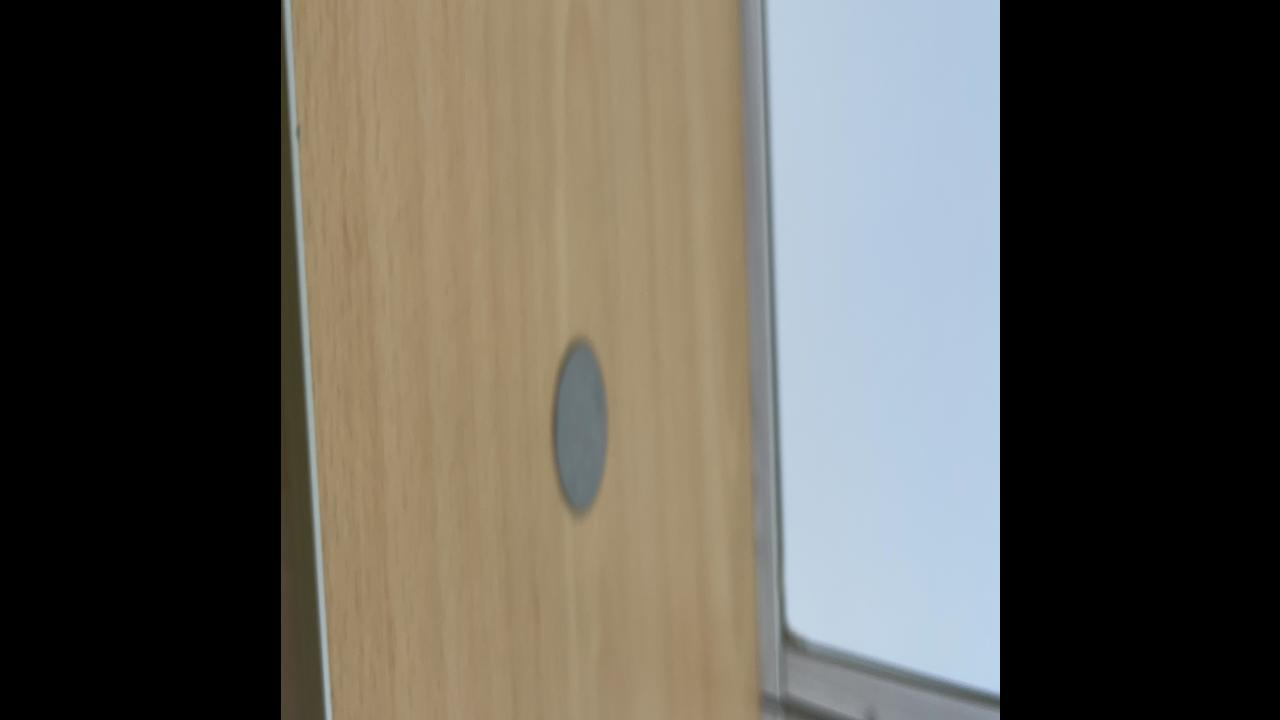coin: (550, 332, 610, 522)
